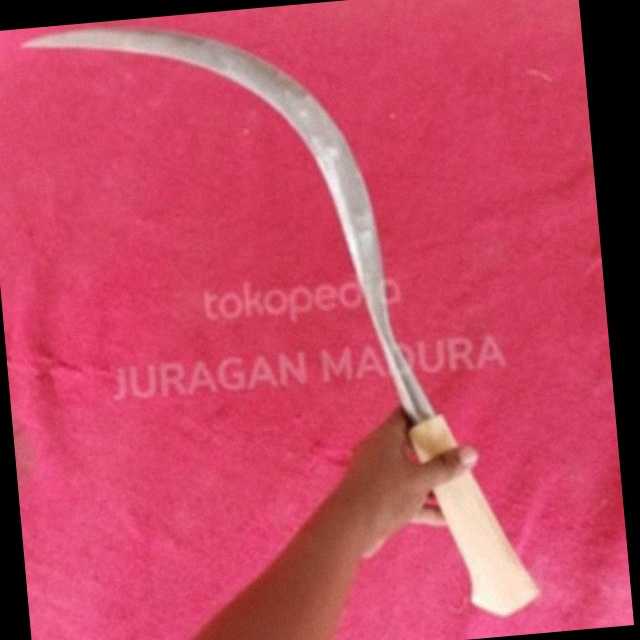Sharp-Object: (3, 0, 550, 640)
